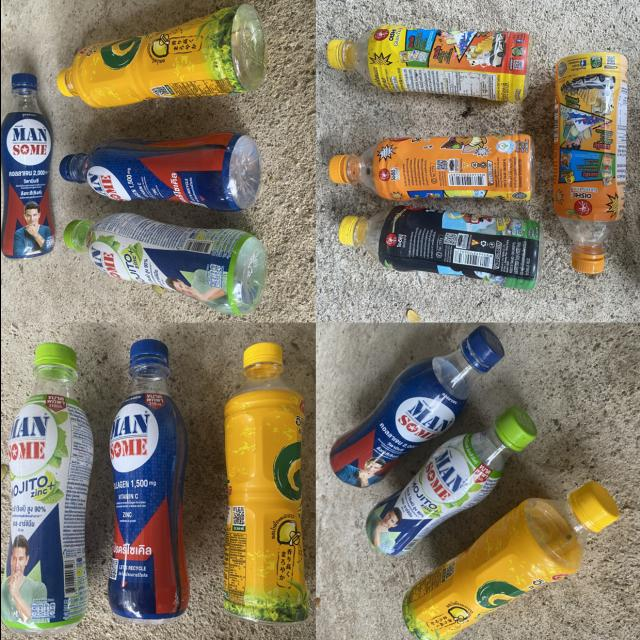plastik: (401, 483, 618, 640), (329, 326, 503, 488), (0, 343, 92, 635), (365, 406, 535, 556), (223, 342, 307, 625), (107, 339, 188, 623), (55, 4, 266, 108), (63, 213, 265, 315), (338, 205, 541, 290), (552, 54, 626, 274), (58, 133, 259, 212), (326, 25, 528, 102), (328, 134, 533, 201), (0, 74, 54, 258)
